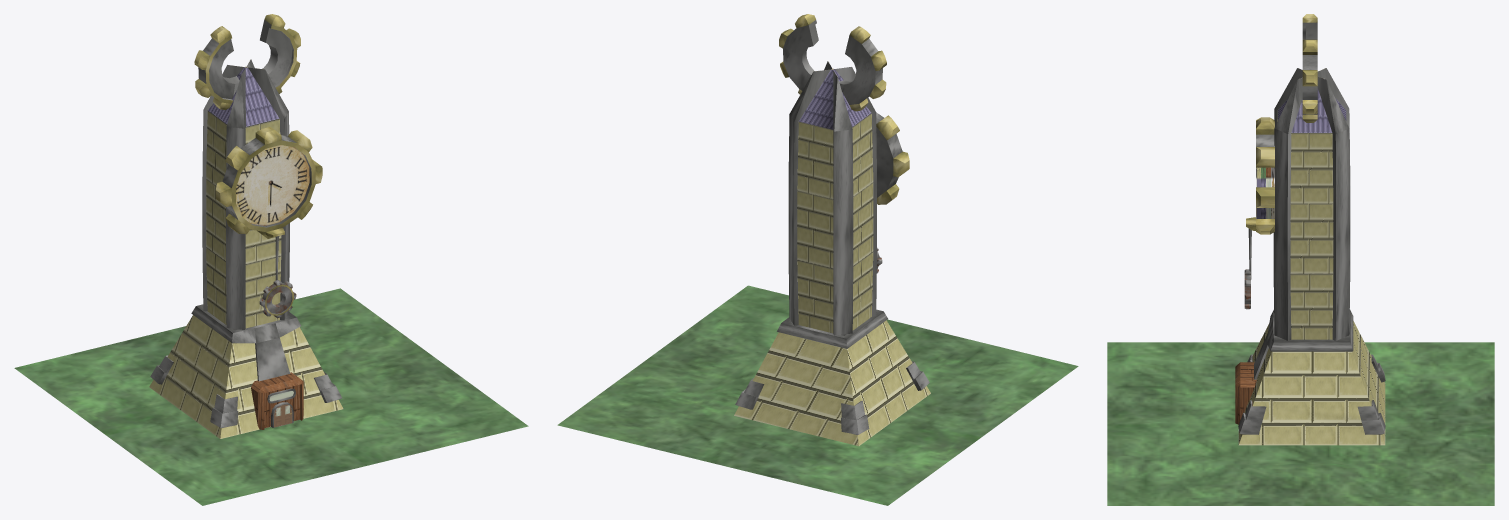
File: ClockTowerTextureRework.FBX
3 views of the same model, side by side, from view 1: azimuth 30°, elevation 25°; view 2: azimuth 150°, elevation 25°; view 3: azimuth 270°, elevation 25° (orthographic). The views are drawn at different scales.
Parts seen in each view (by area): view 1: Box015; view 2: Box015; view 3: Box015.
Part boxes in pixels (box(x1,y1,x2,y2)): Box015: box(14, 14, 528, 505); Box015: box(557, 14, 1078, 505); Box015: box(1107, 14, 1494, 505).
Bounding box in the file's own units: 78.74 × 87.13 × 78.74.
Materials: 1 (1 with a texture image).
